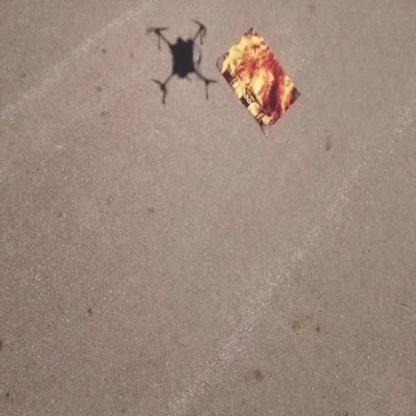fire-poster: (215, 25, 301, 135)
